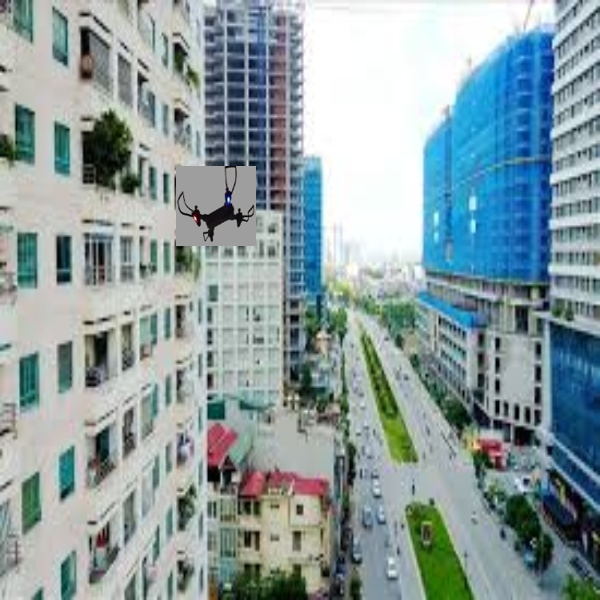drone: (172, 166, 262, 248)
